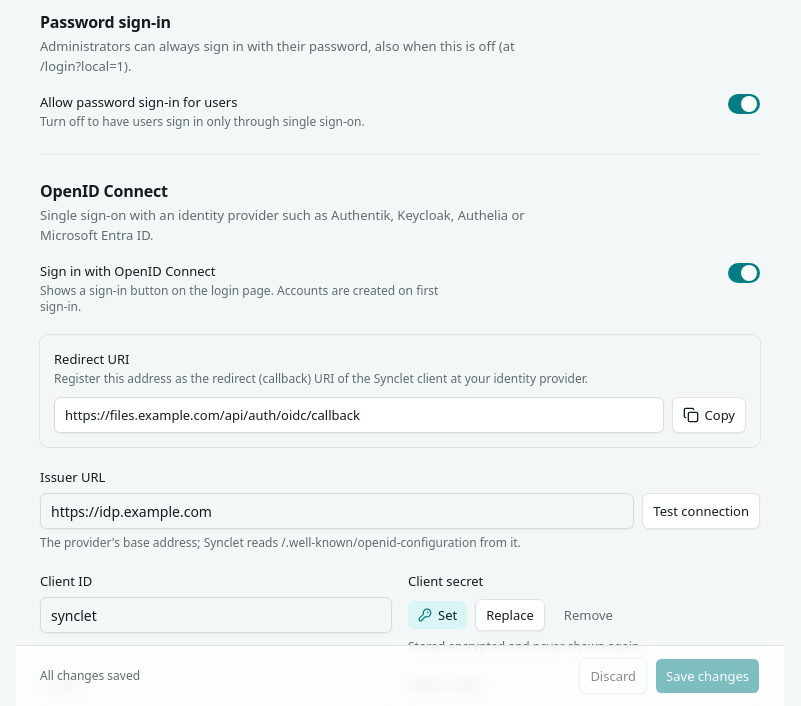
maps server validation errors to their field
The width and height of the screenshot is (801, 706).
Replace the text in the field labelled "Client ID" with "other". click: [216, 615]
box: [40, 597, 392, 633]
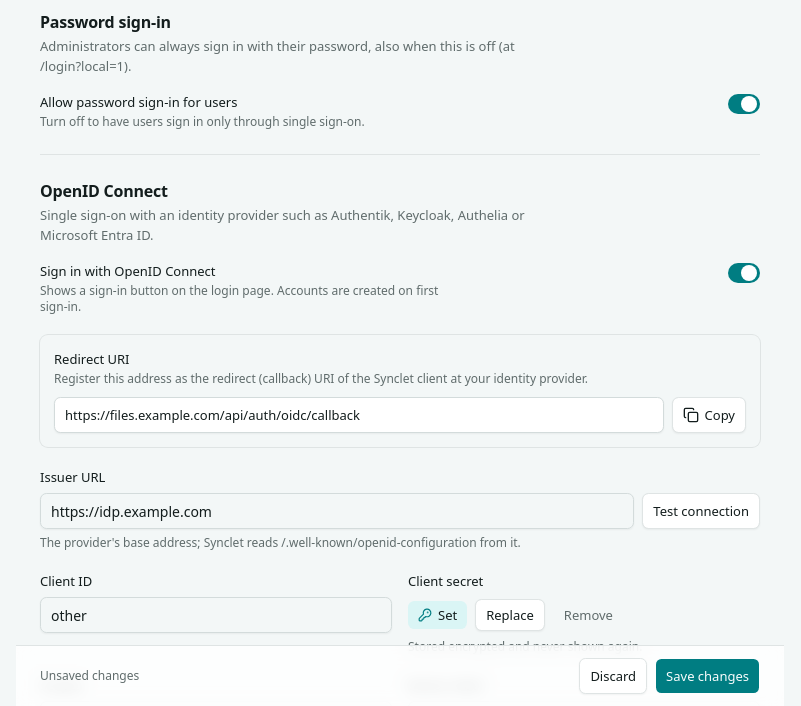
Click the button "Save changes". click: [708, 676]
box: [655, 658, 760, 694]
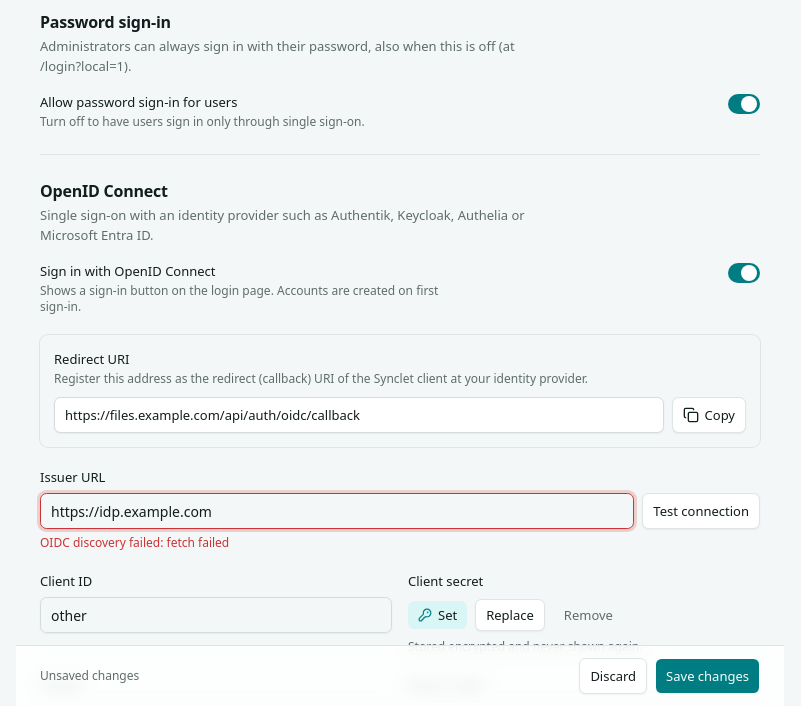
Expected: the text "OIDC discovery failed: fetch failed" is shown, [40, 534, 229, 551]
